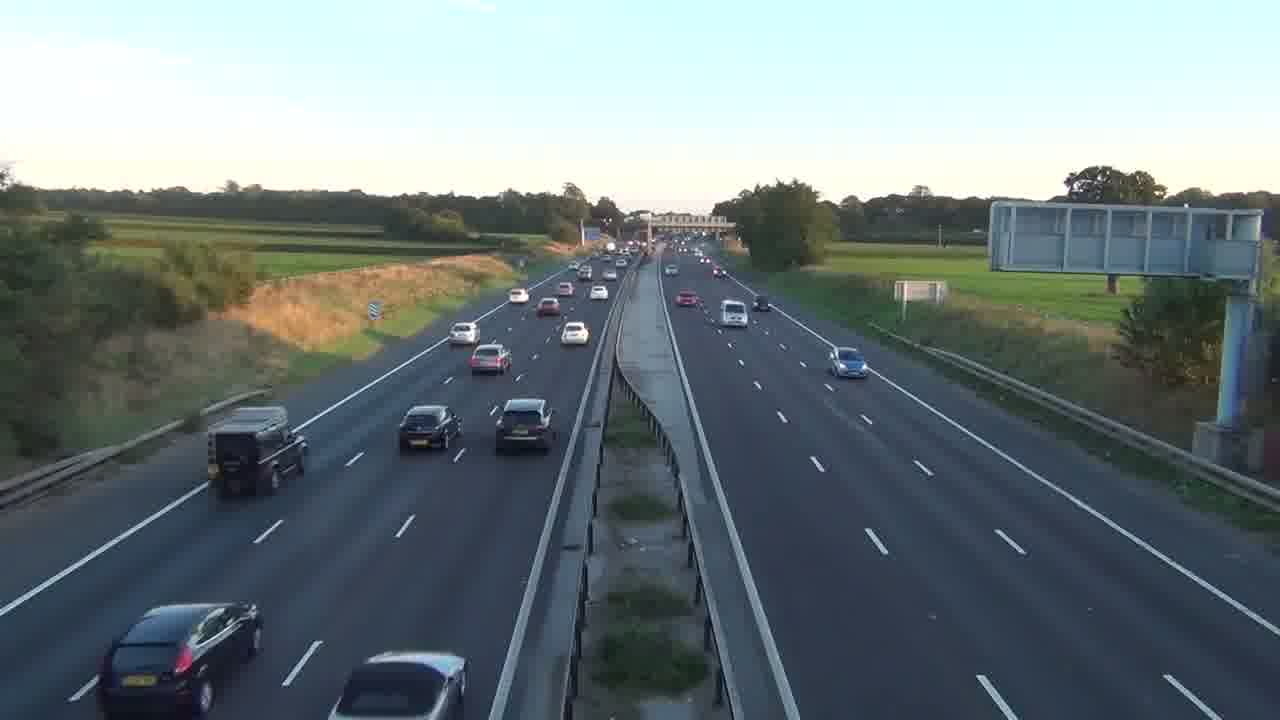car: (95, 601, 263, 717), (327, 650, 470, 719), (493, 396, 555, 454), (397, 403, 462, 452), (468, 340, 512, 375), (830, 346, 868, 379), (447, 319, 480, 347), (560, 320, 591, 347), (536, 297, 562, 318)
truck: (206, 403, 309, 498)
